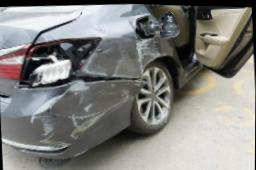Bumper: (27, 80, 129, 147)
Fender: (101, 31, 163, 74)
Light: (16, 40, 87, 92)
